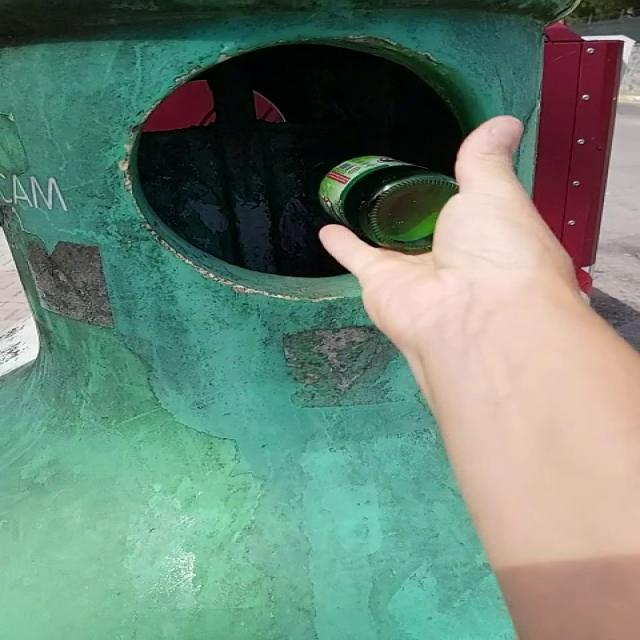glass: (313, 155, 459, 254)
